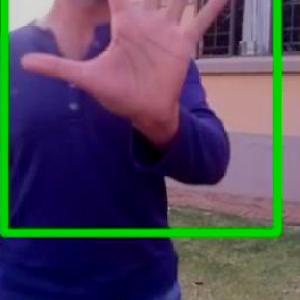follow_hand: (15, 0, 240, 139)
